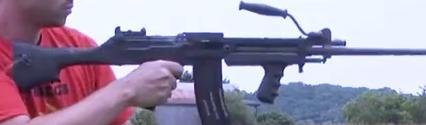gun: (1, 1, 426, 125)
